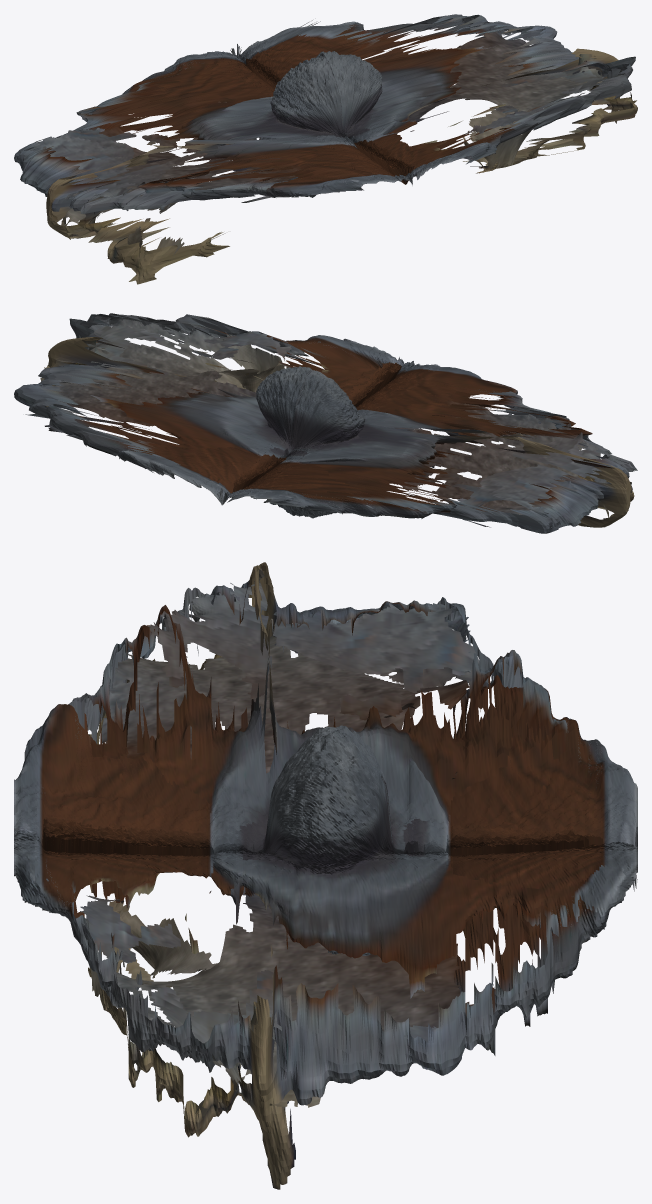
Rendered from detail_mesh.glb.
3 renders of one model, top to bottom at view 1: azimuth 30°, elevation 25°; view 2: azimuth 150°, elevation 25°; view 3: azimuth 270°, elevation 25°, orthographic. The views are drawn at different scales.
Parts seen in each view (by area): view 1: ipn, fill; view 2: ipn, fill; view 3: ipn, fill.
Boxes of the visible parts, bbox=[...] form: ipn: bbox=[14, 14, 637, 284]; fill: bbox=[16, 28, 632, 273]; ipn: bbox=[14, 313, 637, 532]; fill: bbox=[36, 319, 619, 533]; ipn: bbox=[14, 562, 637, 1189]; fill: bbox=[80, 568, 488, 1118].
Bounding box in the file's own units: 1.95 × 0.4626 × 1.04.
2 materials, 1 textured.
